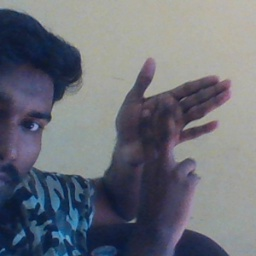N: (109, 55, 236, 211)
